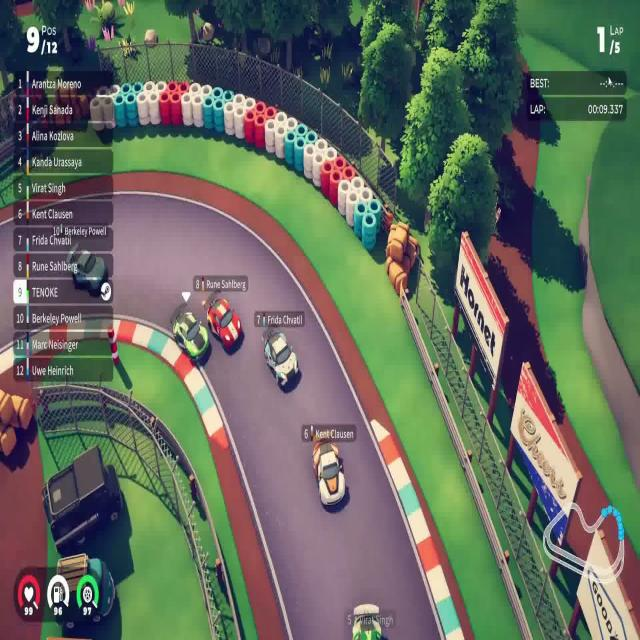car: (311, 438, 346, 508), (262, 328, 299, 388), (206, 296, 242, 351), (172, 310, 209, 363)
